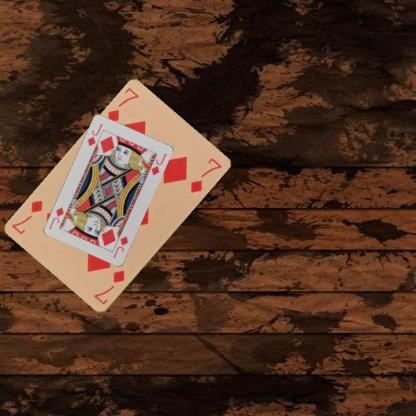7d: (104, 86, 140, 124), (91, 268, 126, 306)
Jd: (110, 233, 129, 260), (85, 122, 104, 147)
